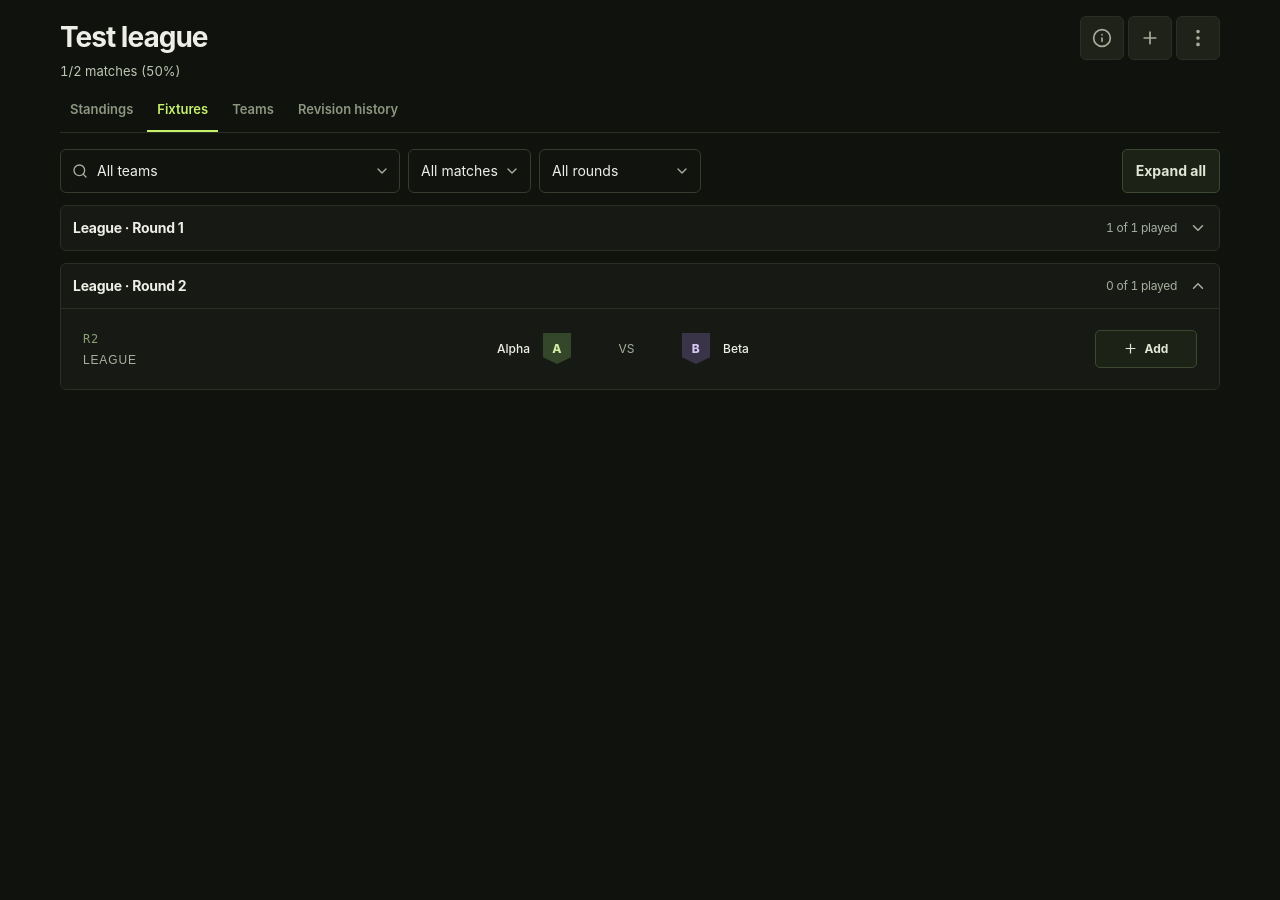
it: tournament progress is not duplicated and result actions respect dropdown filters
This screenshot has width=1280, height=900.
Select "To play" in the dropdown named "Filter fixture status". click: {"x": 470, "y": 171}
box: left=408, top=149, right=531, bottom=193
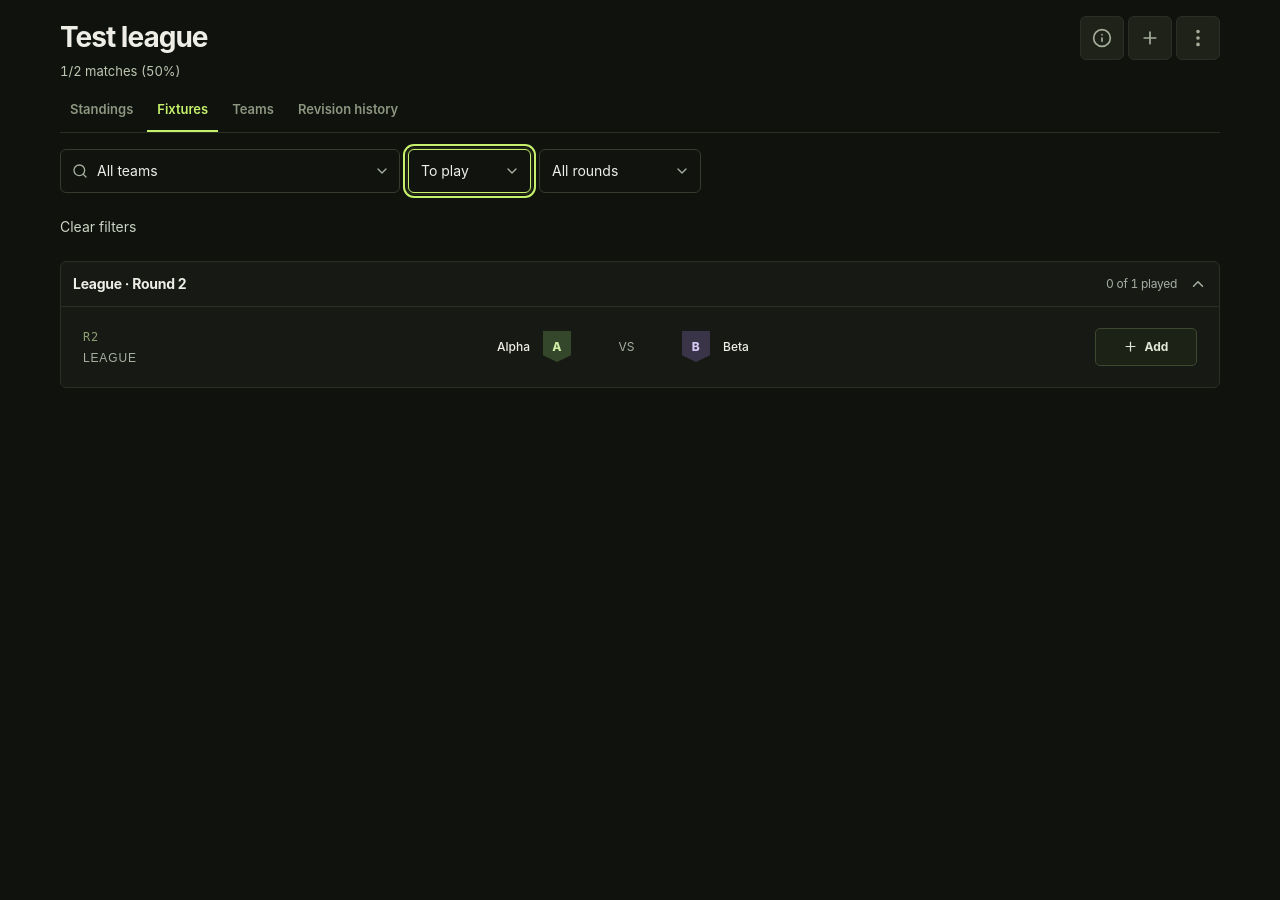
Click the button with aria-label "Add result: Alpha vs Beta, round 2". click: {"x": 1146, "y": 347}
box: left=1095, top=328, right=1197, bottom=366
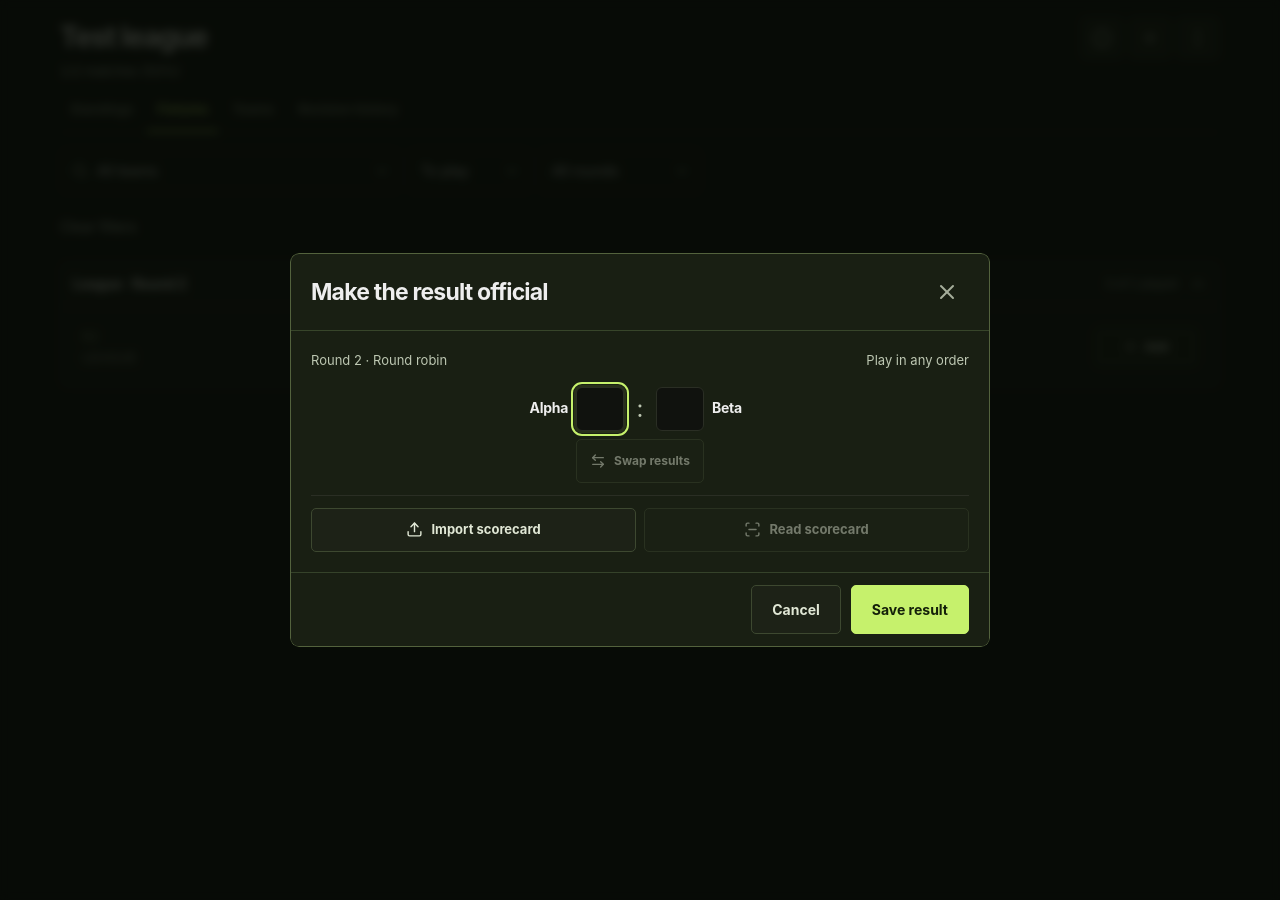
Result: the dialog "Make the result official" is shown at left=290, top=253, right=990, bottom=647
Result: the text "Round 2 · Round robin" is shown at left=311, top=351, right=447, bottom=371
